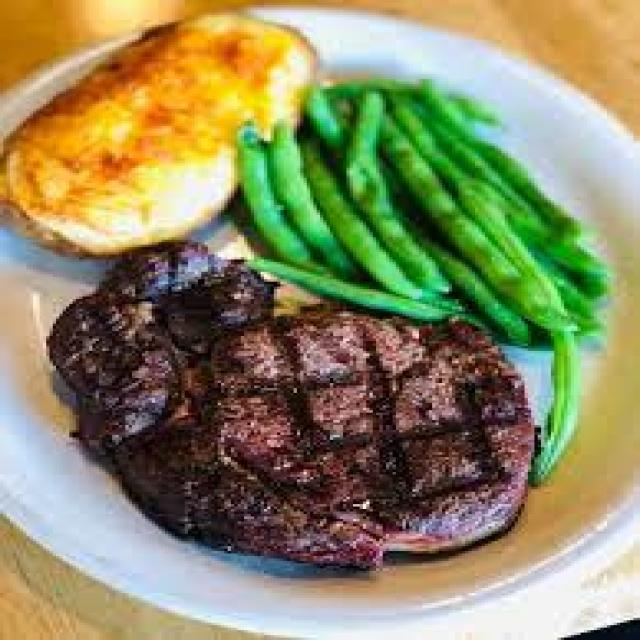Carne: (43, 240, 538, 571)
